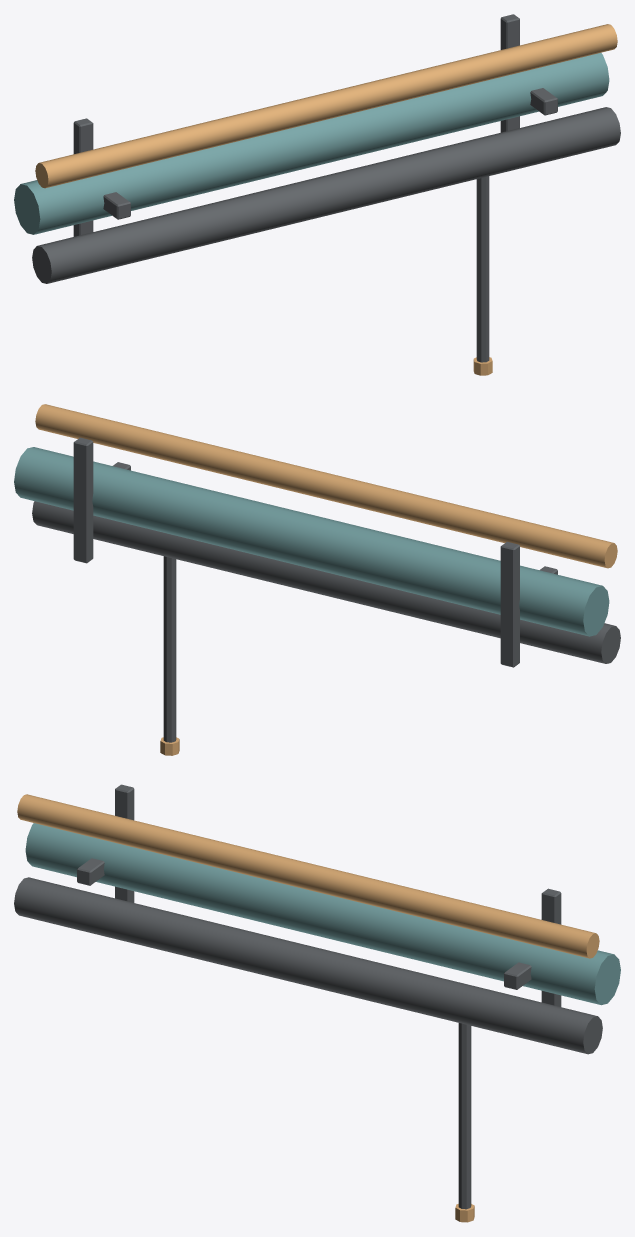
File: pipe_run_high.glb
3 renders of one model, top to bottom at view 1: azimuth 30°, elevation 25°; view 2: azimuth 150°, elevation 25°; view 3: azimuth 330°, elevation 25°, orthographic.
Visible parts, largest first — view 1: pipe_run_high; view 2: pipe_run_high; view 3: pipe_run_high.
Boxes of the visible parts, bbox=[...] form: pipe_run_high: bbox=[14, 14, 620, 375]; pipe_run_high: bbox=[14, 404, 620, 755]; pipe_run_high: bbox=[14, 784, 620, 1222].
Bounding box in the file's own units: 2 × 1.07 × 0.27.
